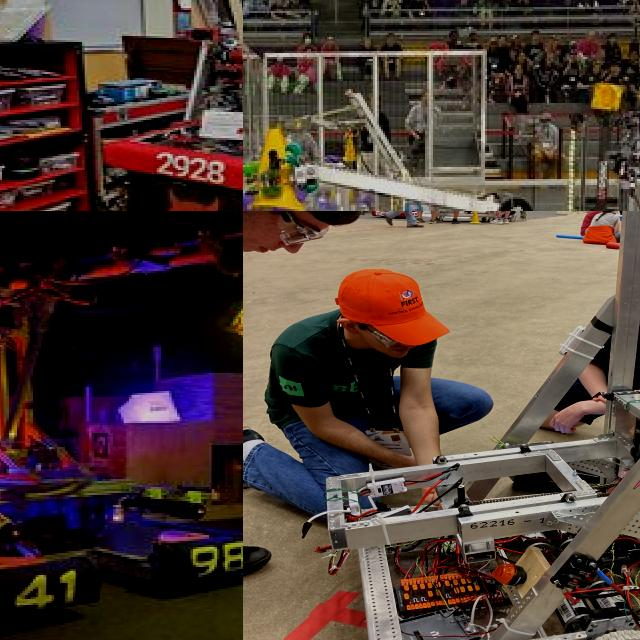FRC-Robots: (297, 211, 640, 640), (0, 211, 243, 635), (243, 118, 640, 211), (99, 0, 243, 196), (534, 121, 640, 211)
